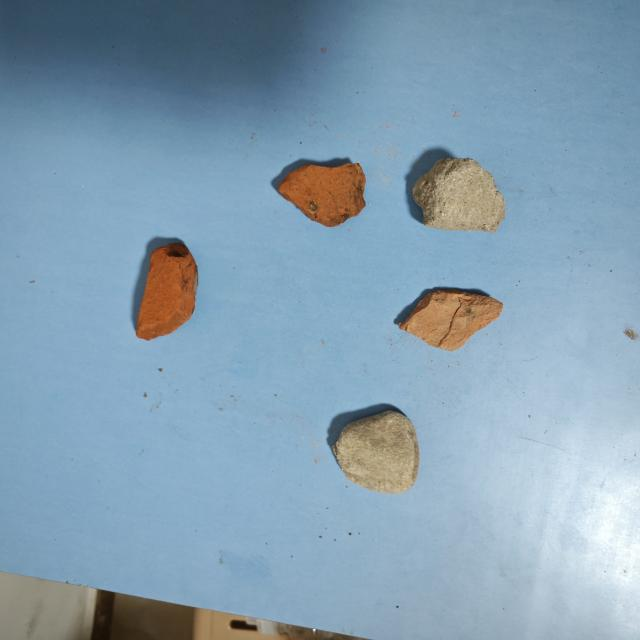-Other waste - brick-: (413, 153, 504, 234), (394, 286, 506, 350), (130, 243, 197, 344), (276, 158, 364, 230)
-Other waste - pebble-: (337, 406, 421, 495)
